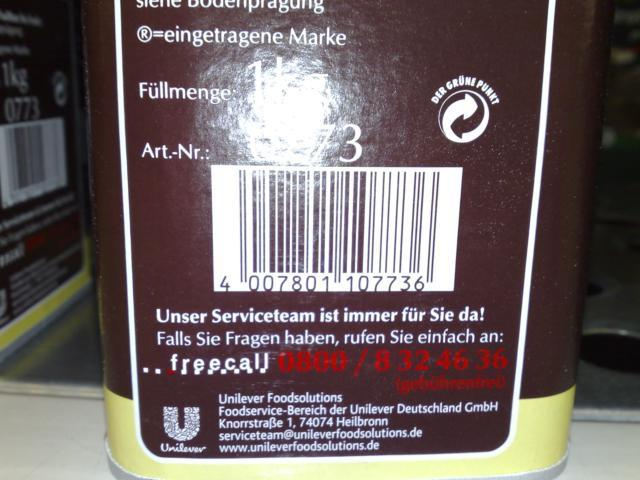Barcode: (211, 165, 463, 293)
